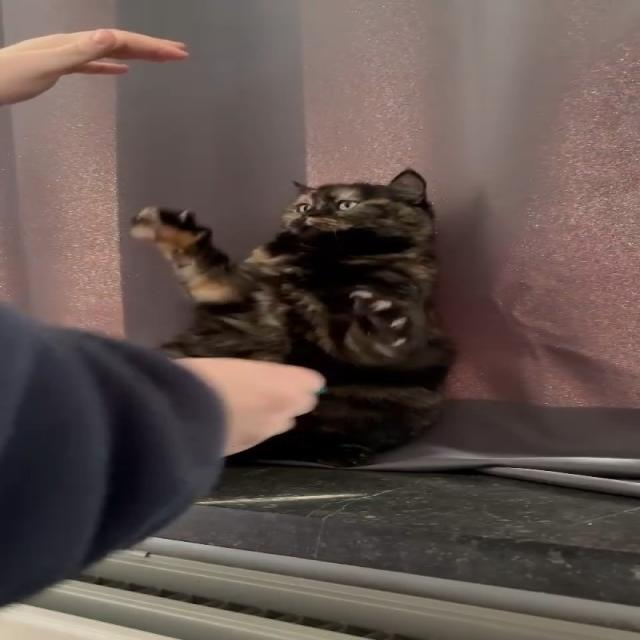authorized: (128, 167, 457, 468)
